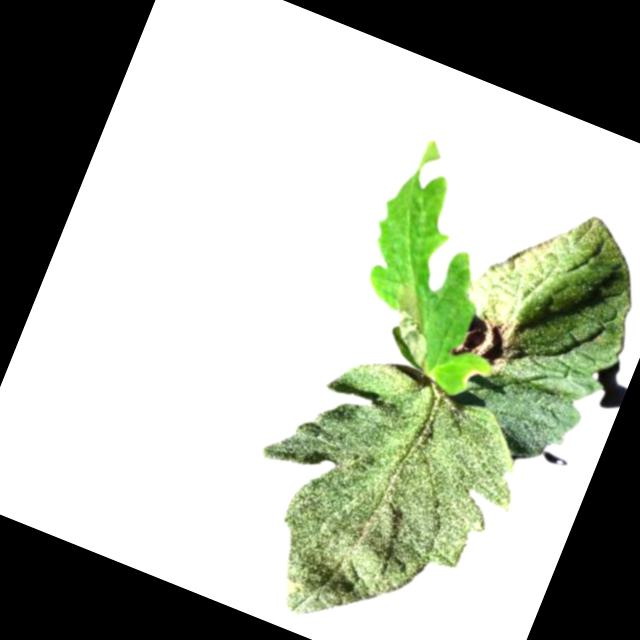Late_blight: (376, 282, 459, 373), (447, 302, 526, 377)
healthy: (211, 328, 546, 640)
